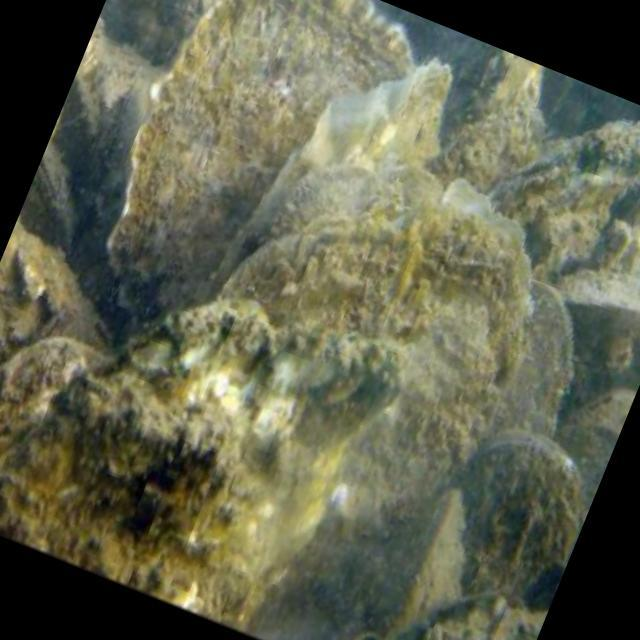Oyster- Indeterminate: (206, 169, 525, 640), (0, 309, 398, 634), (115, 0, 420, 318), (208, 63, 447, 298), (480, 119, 640, 272), (460, 423, 584, 597), (477, 277, 572, 442), (555, 387, 636, 526)
